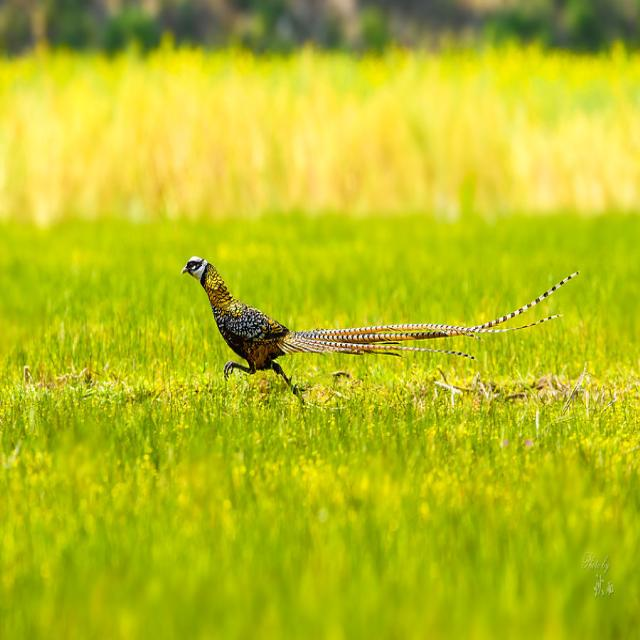Reeves-s Pheasant: (270, 266, 595, 370)
